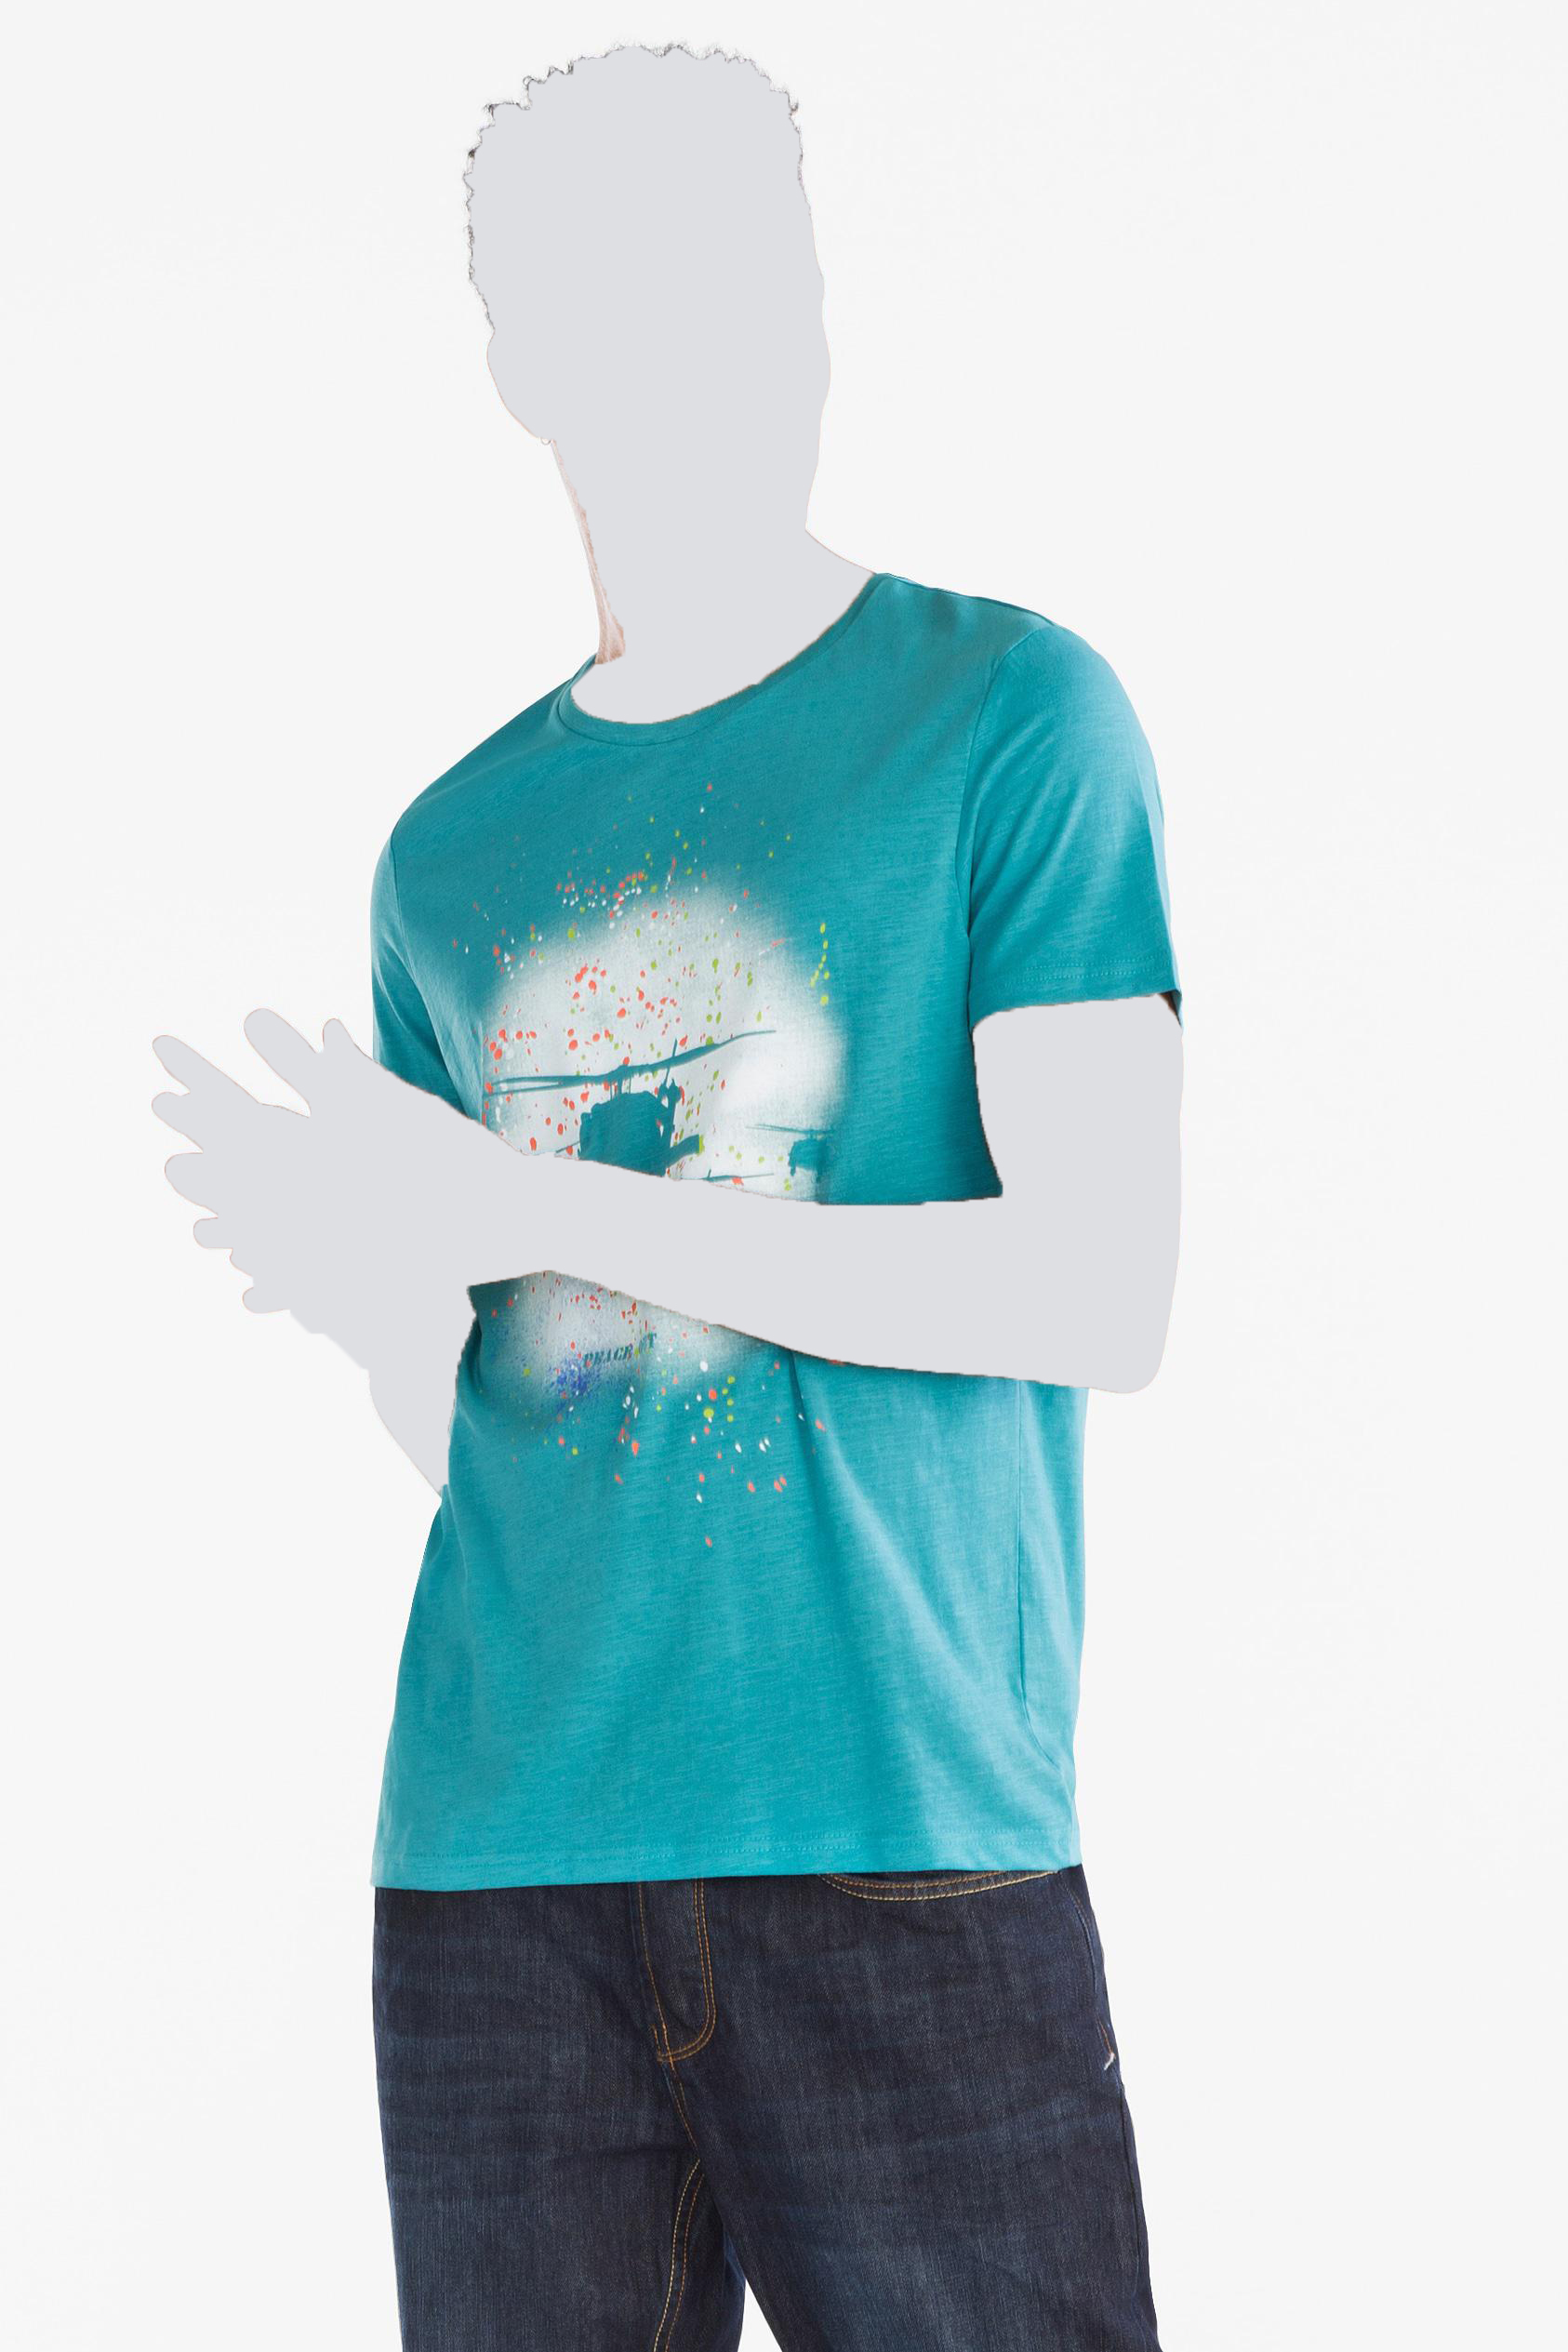teeshirt: (343, 563, 1215, 1913)
